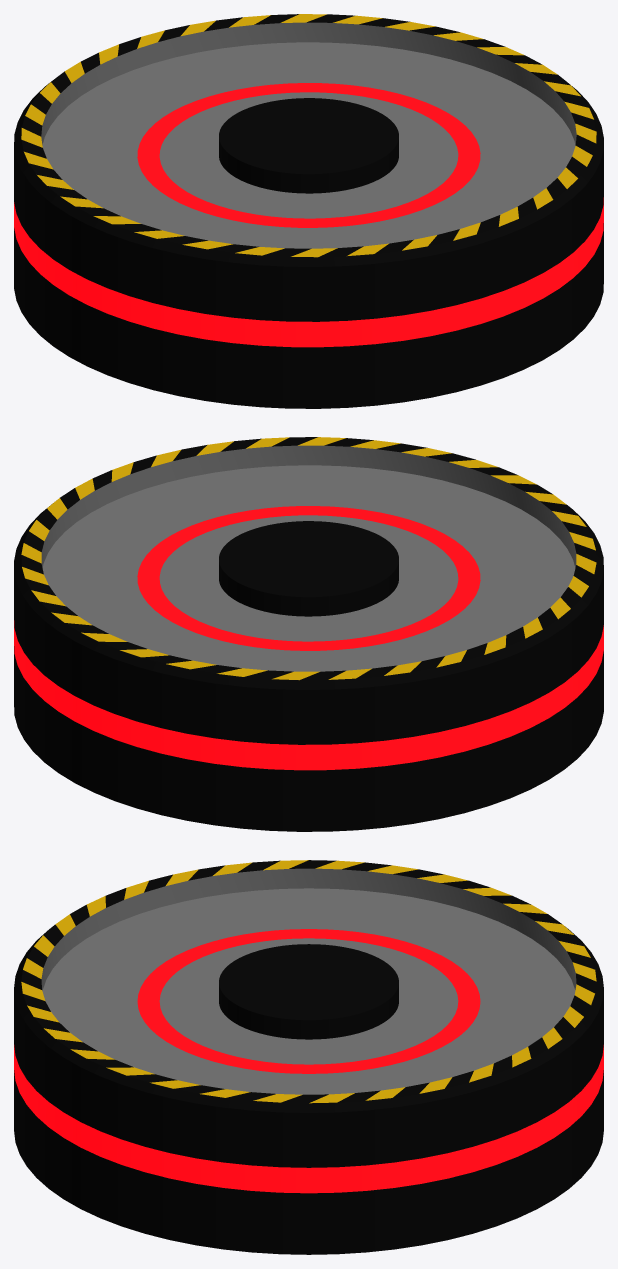
Rendered from cleaning drone 1.fbx.
3 views of the same model, one above another, from view 1: azimuth 30°, elevation 25°; view 2: azimuth 150°, elevation 25°; view 3: azimuth 270°, elevation 25° (orthographic).
Visible parts, largest first — view 1: Cylinder; view 2: Cylinder; view 3: Cylinder.
Part boxes in pixels (x1,y1,x2,y2): Cylinder: (14,14,603,408); Cylinder: (14,437,603,831); Cylinder: (14,860,603,1254).
Size of the model in its own units: 54 by 54 by 15.
